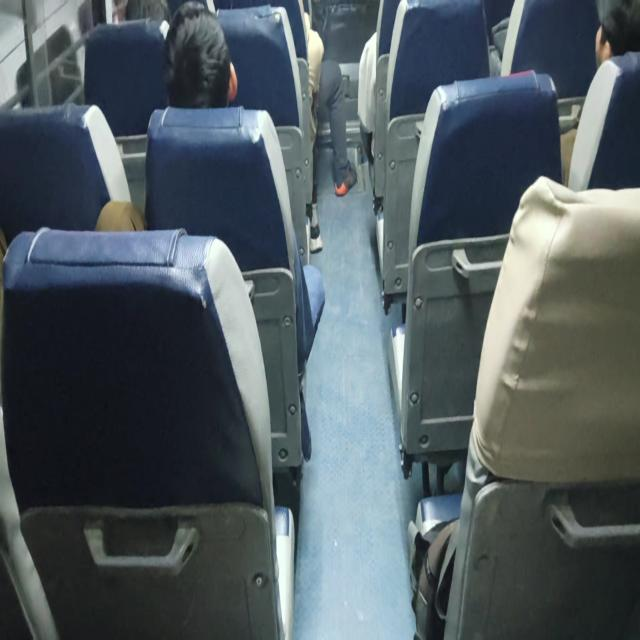person: (95, 1, 325, 461), (224, 0, 357, 252), (95, 0, 238, 232), (563, 0, 639, 191), (302, 9, 358, 197), (162, 0, 238, 109), (594, 0, 639, 68)
